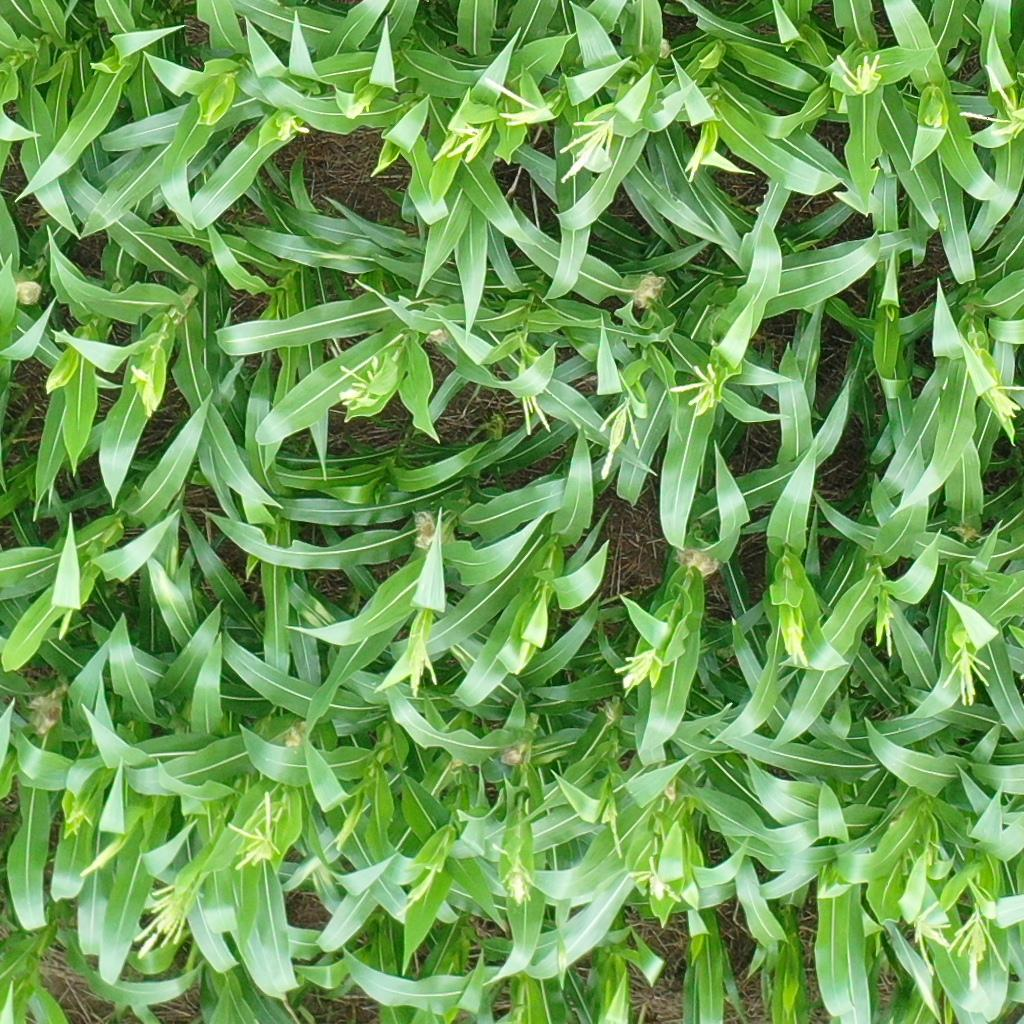Tassel: (910, 897, 1011, 993), (134, 879, 200, 960), (962, 64, 1024, 145), (224, 790, 285, 871), (595, 393, 646, 482), (562, 118, 622, 186), (489, 72, 559, 128), (334, 351, 400, 410), (940, 639, 993, 707), (670, 361, 726, 417), (389, 858, 443, 915), (614, 643, 666, 698), (629, 858, 684, 910), (401, 631, 442, 694), (831, 50, 881, 98), (434, 113, 481, 164), (781, 605, 812, 675), (985, 377, 1024, 431), (517, 384, 557, 436), (497, 854, 536, 906), (75, 838, 123, 877), (871, 602, 901, 663), (598, 793, 623, 860), (131, 367, 164, 417), (334, 805, 360, 855), (677, 141, 706, 183), (270, 115, 311, 144), (341, 98, 372, 123), (512, 638, 533, 674)
